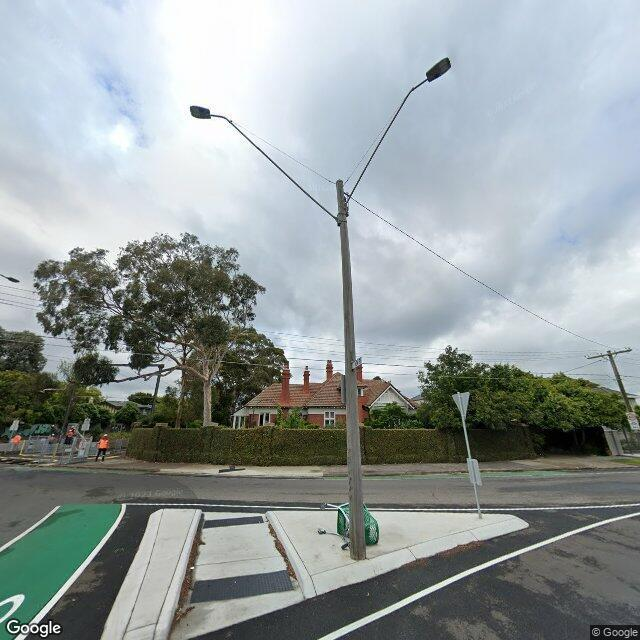crossarm: (584, 347, 633, 360)
streetlight: (190, 104, 339, 223), (344, 56, 453, 204), (0, 273, 20, 283)
timber-pole: (336, 180, 366, 560), (606, 350, 632, 411)
